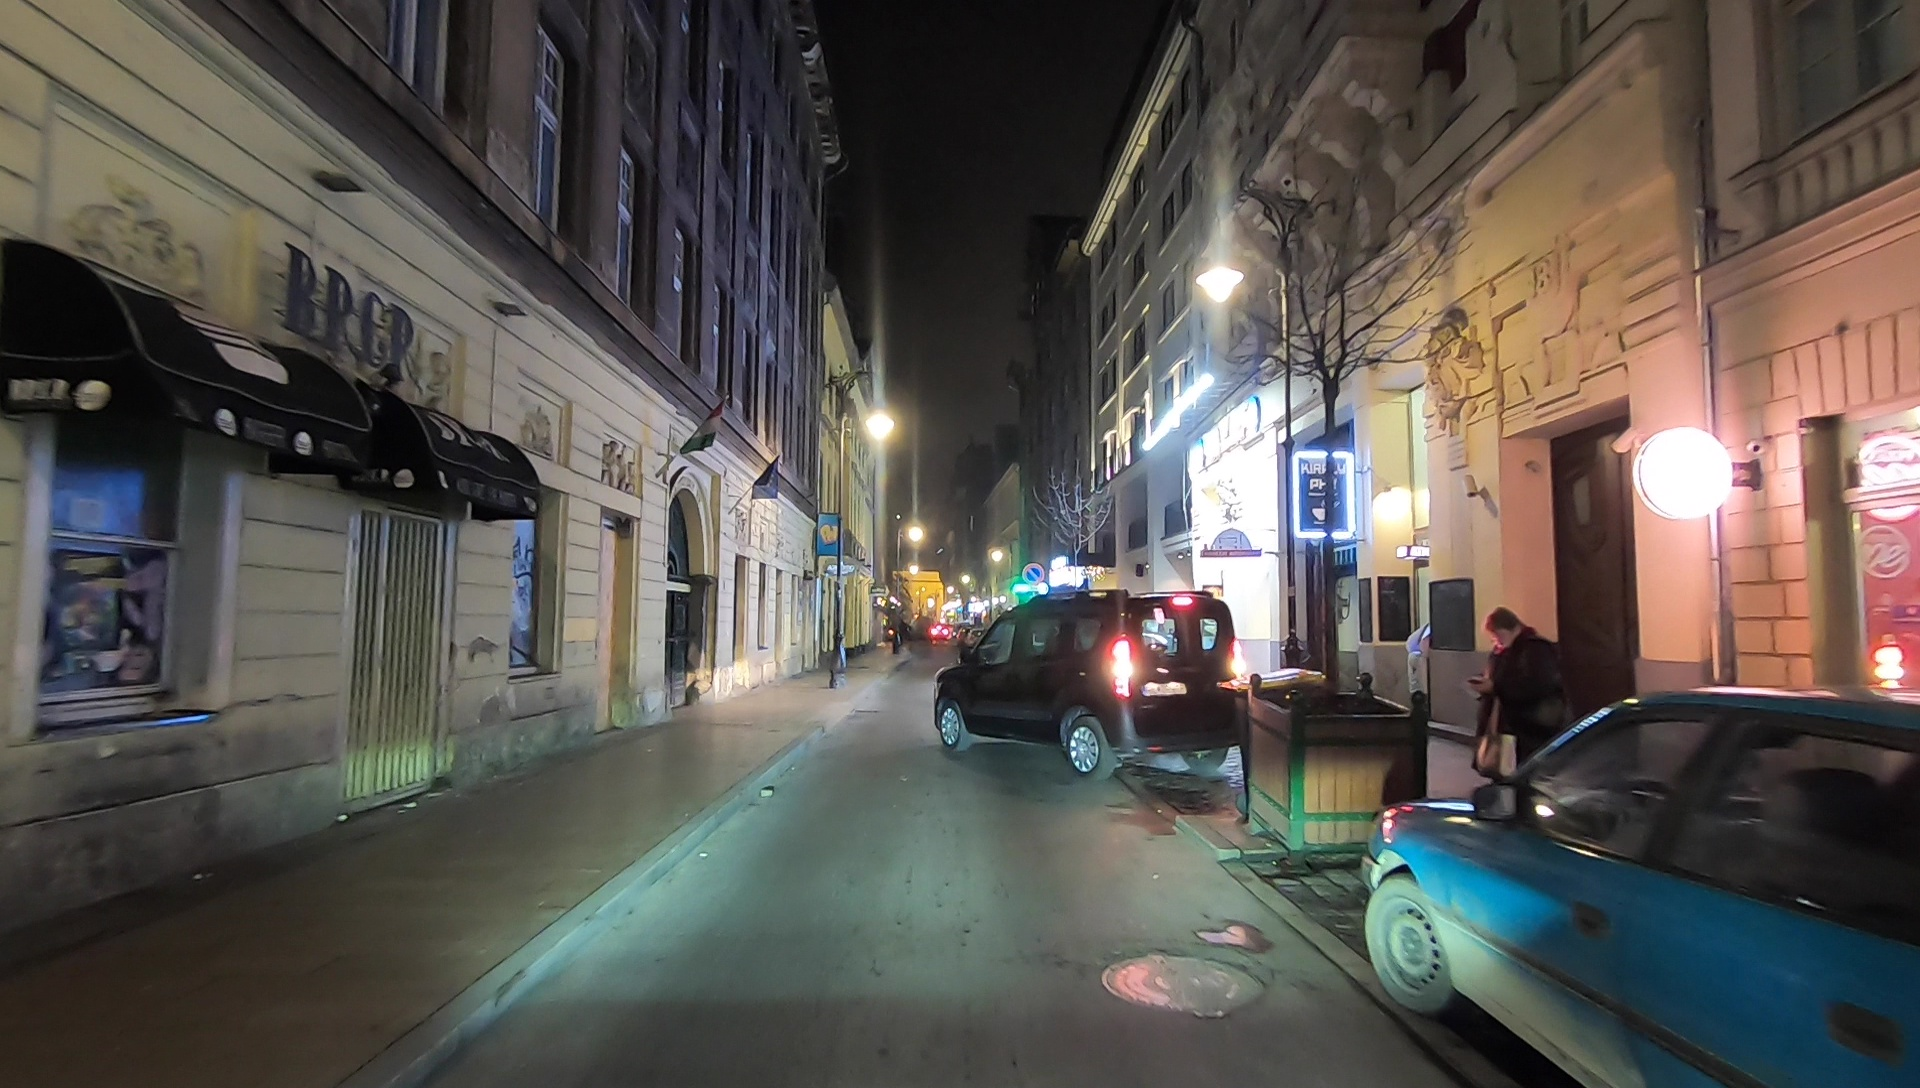person: (1469, 606, 1569, 808)
